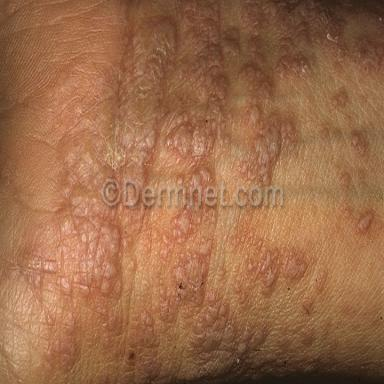lichen: (107, 1, 384, 186), (125, 206, 235, 382), (234, 230, 313, 303), (60, 209, 121, 297), (45, 309, 81, 371), (351, 131, 367, 156), (330, 87, 349, 108), (358, 210, 373, 231)
